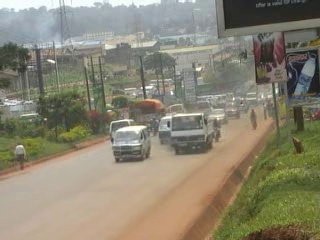Car: (208, 107, 227, 128), (224, 99, 242, 119)
Motorcycle: (213, 119, 222, 145), (148, 115, 159, 135)
